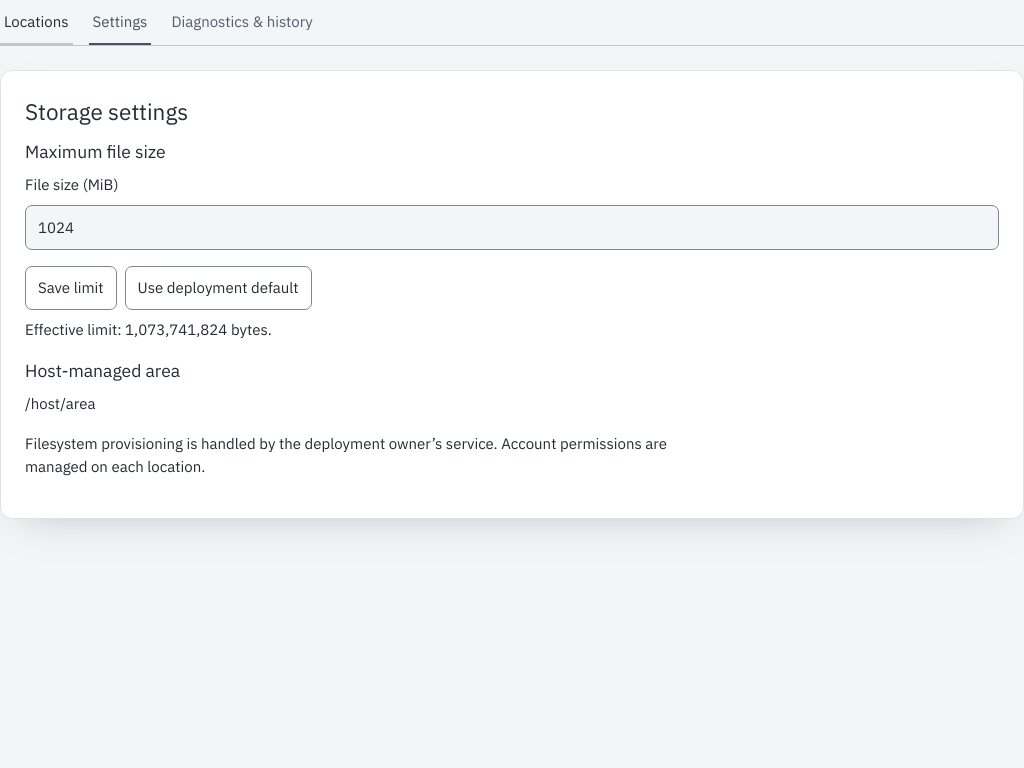
Scenario: settings failures are inline alerts with focus and retained input
Expected: the heading "Storage settings" is shown, x1=25 y1=97 x2=188 y2=126
Replace the text in the number field labelled "File size (MiB)" with "20" at (512, 227), box x1=25 y1=205 x2=999 y2=250
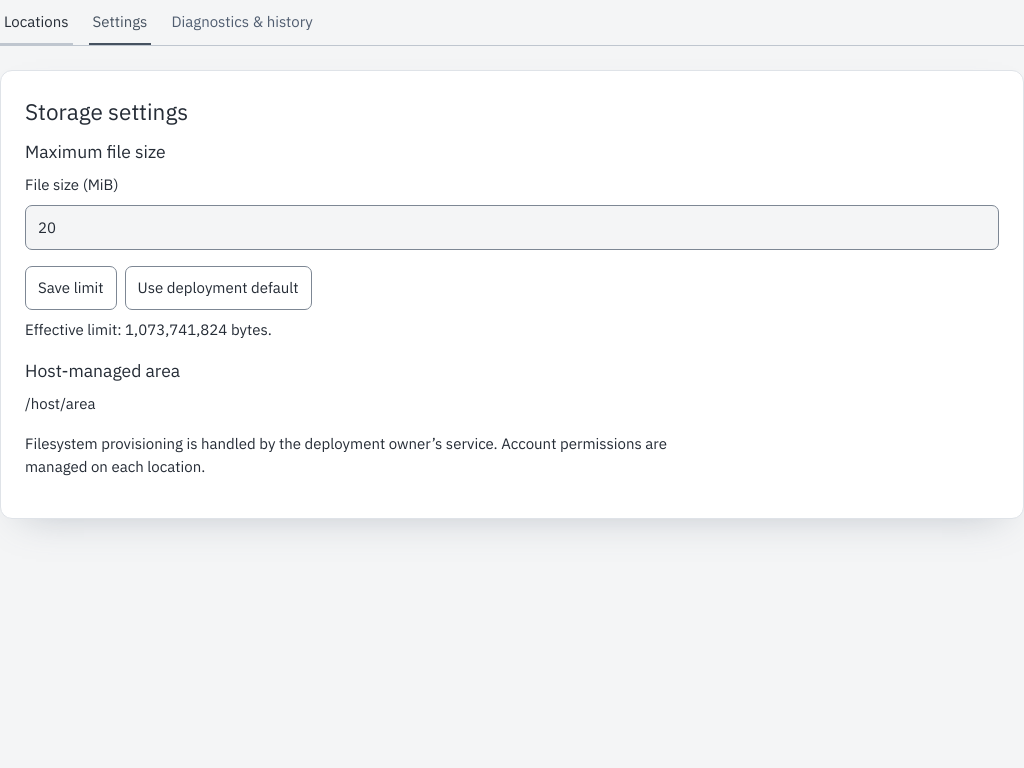
Click the button "Save limit" at (71, 288), box x1=25 y1=266 x2=117 y2=310
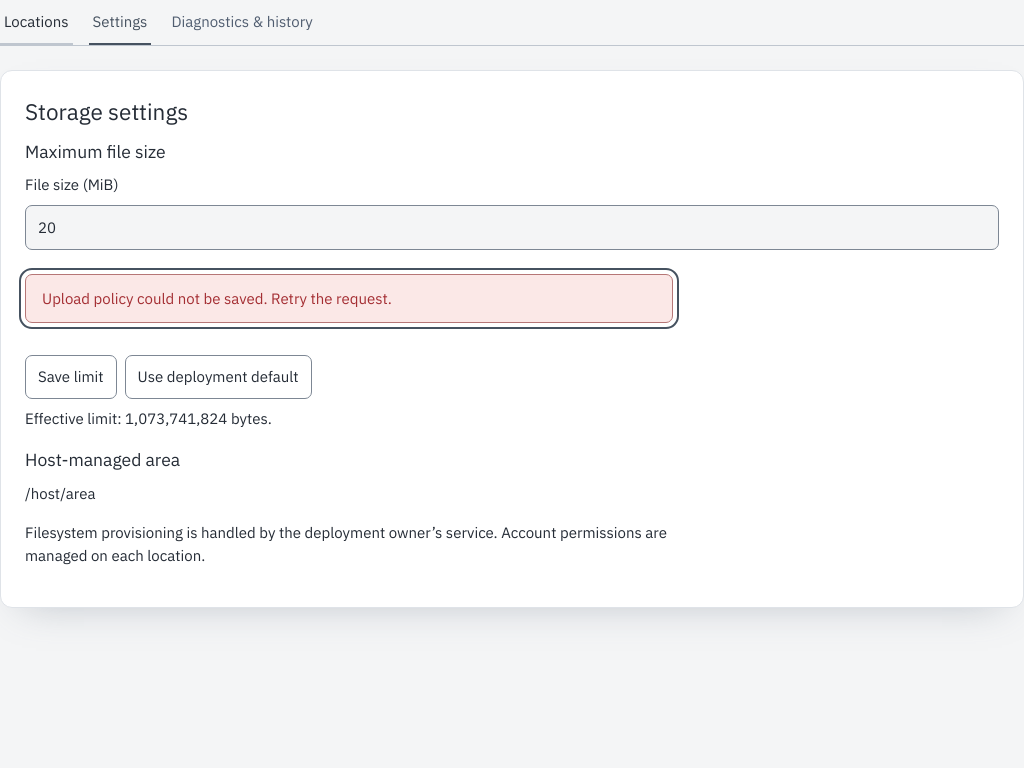
Now the message reads "Upload policy could not be saved. Retry the request.", box x1=42 y1=289 x2=392 y2=308
